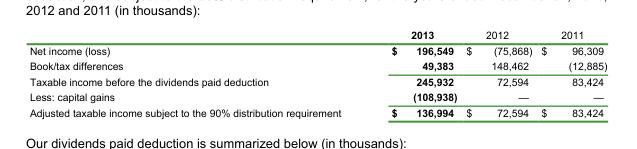table: (28, 29, 606, 118)
table column: (28, 29, 365, 118), (365, 29, 461, 118), (461, 29, 535, 118), (535, 29, 606, 118)
table column header: (28, 29, 606, 42)
table row: (28, 42, 606, 58), (28, 73, 606, 89), (28, 58, 606, 73), (28, 89, 606, 104), (28, 104, 606, 118), (28, 29, 606, 42)
